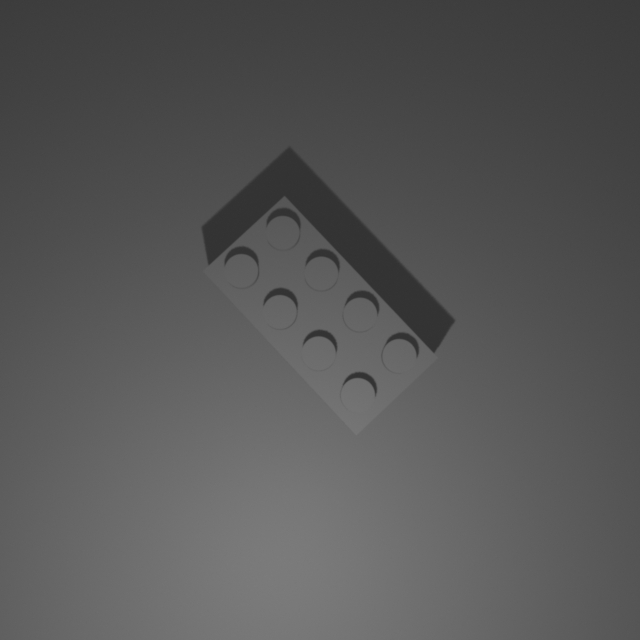lego_2x4: (201, 193, 440, 436)
